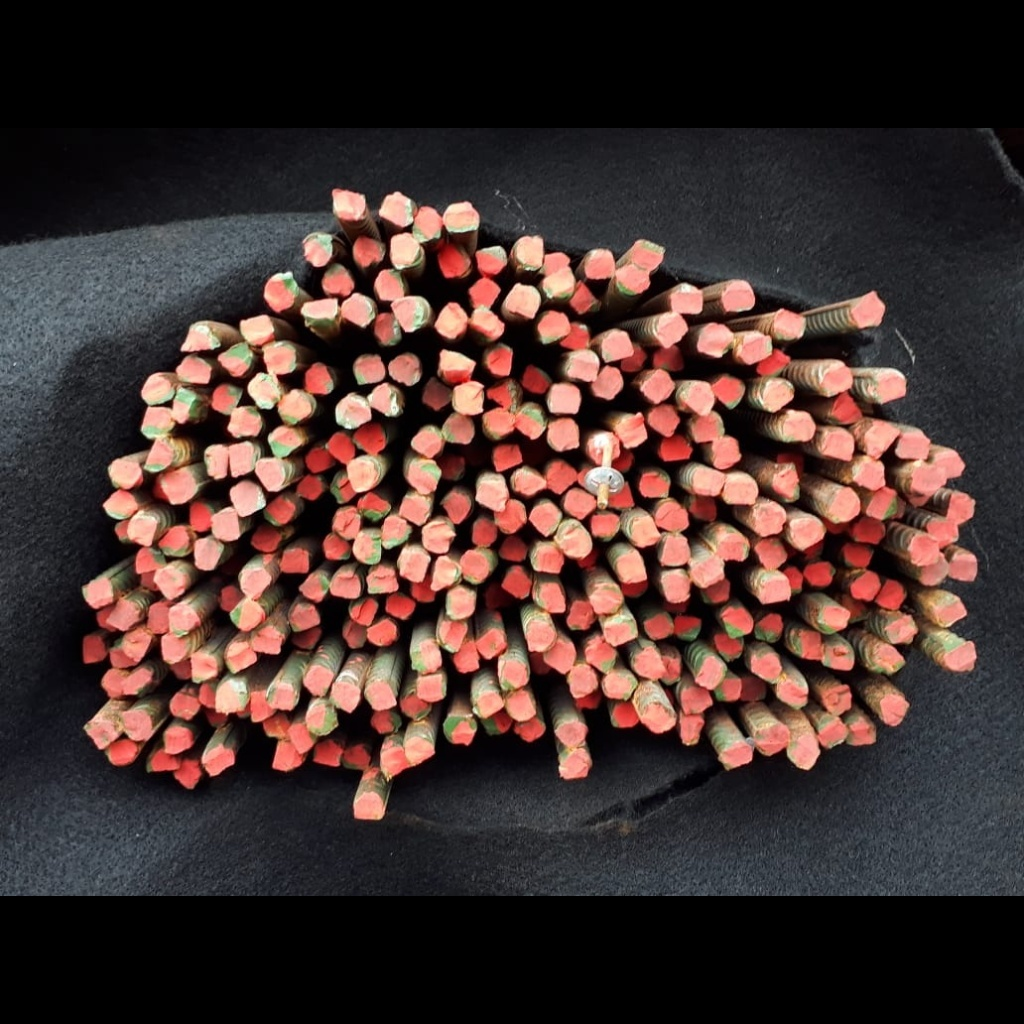dipstick: (554, 520, 592, 559), (543, 460, 579, 496), (277, 389, 312, 425), (697, 322, 733, 357), (379, 193, 417, 226), (264, 273, 296, 312), (230, 481, 265, 516), (247, 372, 281, 408), (335, 394, 371, 428), (789, 517, 825, 551), (515, 402, 547, 440), (161, 469, 196, 503), (436, 243, 470, 278), (506, 283, 540, 318), (826, 487, 860, 522), (850, 456, 885, 490), (863, 424, 899, 457), (641, 369, 675, 403), (261, 342, 296, 375), (435, 303, 468, 338), (172, 387, 204, 423), (544, 638, 576, 674), (753, 723, 789, 755), (713, 374, 745, 410), (586, 431, 620, 464), (391, 297, 423, 332), (408, 458, 440, 493), (591, 365, 623, 400), (655, 312, 687, 347), (852, 293, 884, 328), (341, 294, 374, 327), (218, 343, 251, 376), (819, 361, 852, 394), (458, 550, 490, 584), (440, 350, 474, 382), (538, 311, 570, 345), (476, 478, 508, 512), (494, 500, 526, 534), (529, 503, 561, 537), (681, 381, 713, 415), (390, 232, 421, 267), (141, 407, 176, 438), (267, 426, 302, 457), (102, 489, 137, 520), (368, 384, 403, 415), (640, 702, 676, 732), (412, 206, 441, 243), (713, 533, 750, 562), (215, 680, 248, 712), (229, 599, 262, 631), (631, 239, 664, 271), (547, 417, 579, 450), (584, 642, 616, 675), (691, 555, 723, 588), (547, 383, 581, 414), (603, 615, 637, 646), (590, 584, 624, 615), (654, 501, 688, 532), (723, 473, 757, 504), (721, 280, 755, 311), (764, 378, 795, 412), (144, 437, 174, 472), (737, 334, 772, 364), (772, 465, 800, 502), (305, 704, 337, 736), (388, 353, 420, 385), (753, 503, 785, 535), (321, 264, 354, 295), (122, 629, 153, 662), (202, 745, 235, 776), (353, 423, 386, 454), (755, 538, 788, 569), (469, 309, 503, 339), (423, 376, 453, 410), (488, 379, 522, 409), (788, 735, 818, 769), (757, 348, 791, 378), (852, 514, 886, 544), (331, 190, 366, 219), (443, 202, 478, 231), (568, 663, 597, 698), (910, 464, 946, 492), (225, 642, 257, 673), (421, 522, 453, 553), (452, 382, 483, 414), (634, 647, 665, 679), (564, 488, 596, 519), (680, 684, 711, 716), (884, 614, 916, 645), (240, 315, 273, 345), (141, 375, 174, 405), (107, 599, 140, 629), (511, 466, 544, 496), (932, 596, 965, 626), (302, 232, 331, 266), (228, 407, 262, 436), (443, 715, 477, 744), (176, 356, 211, 384), (82, 577, 113, 608), (347, 460, 378, 491), (398, 550, 429, 581), (401, 690, 432, 721), (543, 268, 574, 299), (568, 351, 599, 382), (875, 370, 906, 401), (866, 488, 897, 519), (255, 459, 285, 491), (154, 567, 184, 599), (438, 620, 468, 652), (617, 415, 647, 447), (696, 657, 726, 689), (776, 678, 808, 708), (872, 644, 904, 674), (875, 579, 907, 609), (649, 405, 679, 437), (671, 284, 703, 314), (773, 309, 805, 339), (821, 642, 854, 671), (782, 411, 815, 440), (820, 431, 853, 460), (484, 343, 512, 377), (656, 435, 692, 461), (946, 491, 972, 527), (211, 384, 242, 414), (193, 539, 223, 570), (469, 278, 500, 308), (404, 736, 434, 767), (504, 691, 535, 721), (491, 441, 522, 471), (909, 535, 939, 566), (108, 459, 140, 488), (352, 354, 384, 383), (442, 492, 471, 524), (410, 428, 442, 457), (527, 620, 556, 652), (692, 413, 724, 442), (301, 299, 338, 324), (352, 237, 385, 265), (382, 515, 410, 548), (616, 266, 649, 294), (712, 436, 740, 469), (83, 721, 117, 748), (603, 673, 637, 700), (159, 526, 189, 556), (265, 496, 295, 526), (122, 710, 152, 740), (326, 433, 356, 463), (410, 642, 440, 672), (584, 249, 614, 279), (482, 407, 512, 437), (817, 719, 847, 749), (375, 270, 404, 301), (239, 569, 270, 598), (274, 741, 305, 770), (477, 628, 506, 659), (443, 414, 474, 443), (602, 332, 633, 361), (534, 583, 565, 612), (532, 544, 563, 573), (792, 630, 823, 659), (850, 571, 881, 600), (832, 393, 861, 424), (949, 551, 978, 582), (364, 682, 396, 710), (880, 694, 908, 726), (182, 323, 215, 350), (228, 443, 255, 476), (374, 312, 401, 345), (515, 236, 542, 269), (128, 516, 157, 546), (210, 510, 239, 540), (168, 605, 197, 635), (252, 625, 282, 654), (349, 597, 378, 627), (331, 682, 361, 711), (379, 745, 408, 775), (399, 496, 429, 525), (822, 685, 851, 715), (920, 555, 949, 585), (945, 642, 975, 671), (251, 524, 282, 552), (304, 665, 332, 696), (304, 362, 332, 393), (476, 246, 507, 274), (353, 532, 381, 563), (353, 792, 384, 820), (932, 450, 963, 478), (927, 518, 958, 546), (169, 693, 201, 720), (330, 471, 356, 504), (691, 468, 724, 494), (571, 281, 596, 315), (267, 682, 296, 711), (521, 365, 550, 394), (332, 510, 360, 540), (750, 653, 780, 681), (359, 493, 390, 520), (721, 741, 752, 768), (897, 434, 928, 461), (164, 725, 193, 753), (446, 589, 474, 618), (500, 660, 528, 689), (847, 717, 876, 745), (630, 517, 658, 546), (660, 537, 689, 565), (819, 606, 847, 635), (755, 613, 783, 642), (687, 495, 716, 523), (174, 759, 201, 789), (191, 653, 218, 683), (161, 633, 188, 663), (385, 593, 415, 620), (501, 571, 531, 598), (567, 600, 594, 630), (644, 612, 674, 639), (713, 633, 743, 660), (453, 641, 479, 672), (560, 752, 591, 778), (653, 346, 684, 372), (842, 543, 873, 569), (370, 709, 402, 734), (591, 511, 619, 539), (123, 669, 152, 696), (434, 556, 461, 585), (559, 321, 588, 348), (761, 576, 790, 603), (621, 343, 648, 372), (205, 445, 228, 479), (554, 723, 588, 746), (135, 548, 165, 574), (107, 739, 137, 765), (249, 691, 275, 721), (289, 724, 315, 754), (330, 572, 360, 598), (722, 611, 752, 637), (639, 472, 669, 498), (262, 714, 293, 739), (514, 717, 546, 741), (314, 739, 342, 766), (417, 674, 445, 701), (738, 675, 766, 702), (701, 577, 729, 604), (101, 669, 127, 698), (290, 604, 319, 630), (473, 691, 502, 717), (663, 573, 689, 602), (803, 563, 834, 587), (366, 570, 398, 593), (480, 711, 512, 734), (323, 534, 351, 560), (368, 620, 396, 646), (410, 574, 435, 603), (499, 536, 528, 561), (678, 715, 703, 744), (279, 549, 309, 573), (301, 574, 328, 600), (343, 744, 370, 770), (674, 615, 701, 641), (188, 503, 213, 531), (341, 620, 366, 648), (610, 702, 638, 727), (440, 454, 465, 481), (147, 603, 169, 633), (146, 750, 179, 770), (217, 586, 242, 612), (297, 476, 324, 500), (306, 448, 333, 472), (543, 253, 570, 277), (82, 635, 105, 663), (472, 518, 495, 546), (620, 576, 647, 598), (717, 678, 741, 701)
